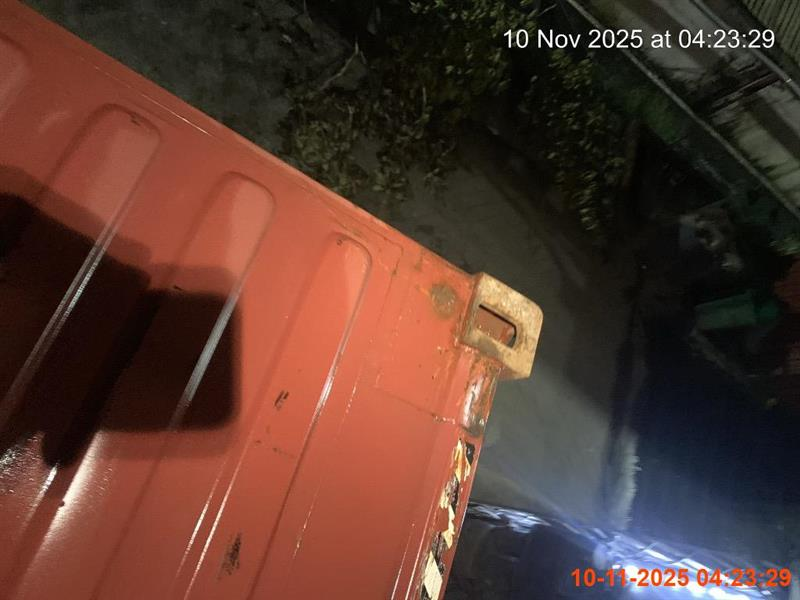hole: (1, 1, 545, 598)
